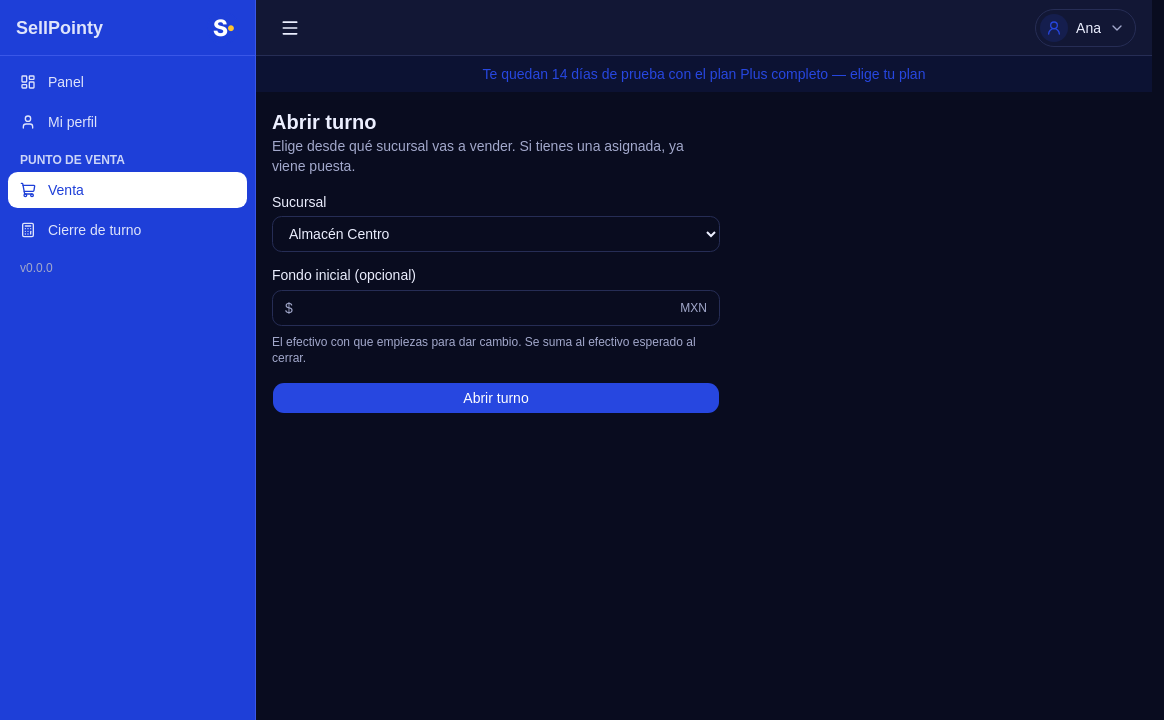
Test: /pos — la puerta del punto de venta › si el API rechaza la apertura, el motivo se ve
Click the button "Abrir turno": (496, 398) [272, 382, 720, 414]
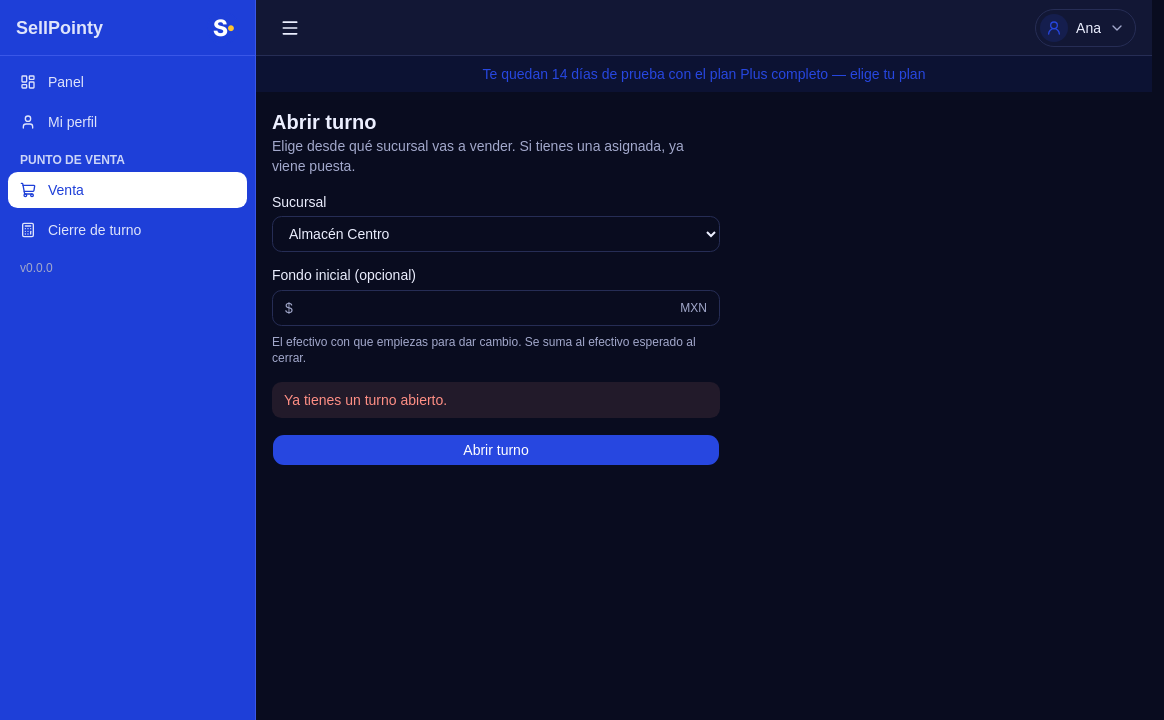
Check: the message shows "turno abierto", box [284, 392, 447, 408]
